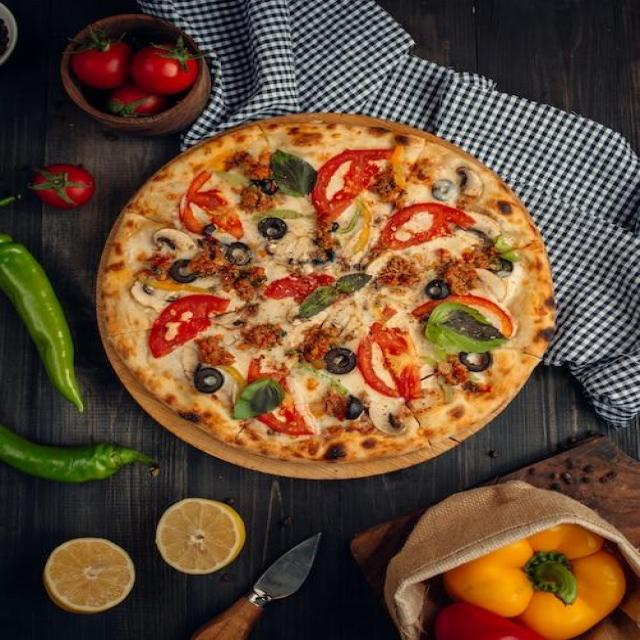basil: (426, 300, 510, 352), (266, 148, 320, 197), (233, 379, 283, 422), (299, 286, 346, 320), (254, 206, 311, 223), (335, 271, 371, 293), (215, 169, 248, 190), (257, 207, 305, 220)
olive: (288, 238, 339, 270), (321, 347, 355, 373), (461, 348, 494, 372), (196, 370, 224, 397), (224, 241, 255, 265), (254, 217, 289, 238), (171, 256, 199, 281), (196, 224, 222, 247), (426, 179, 456, 198), (423, 277, 449, 298), (488, 257, 514, 278), (348, 394, 366, 420), (329, 221, 340, 232)
pizza: (102, 123, 552, 466)
